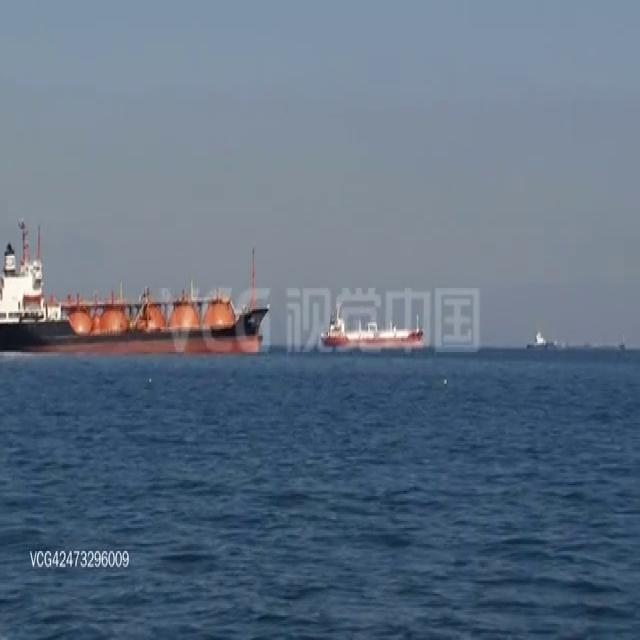cargoship: (0, 212, 269, 356), (318, 304, 424, 356), (523, 325, 558, 350)
